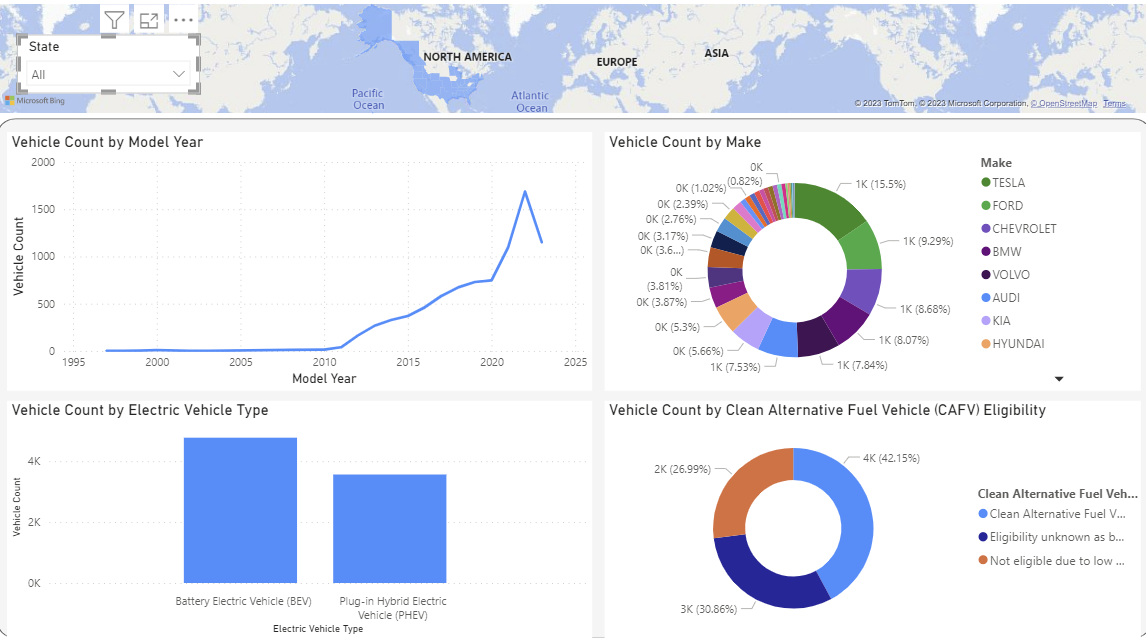

The page's visual inventory and layout, read from the dashboard file:
{"tool":"powerbi","page":{"name":"Page 1","canvas":[1280,720],"ordinal":0},"visuals":[{"type":"shape","box":[9.6,0,1270.7,140],"z":0},{"type":"filledMap","fields":{"Category":["Electric_Vehicle_Population_Data.State"]},"box":[9.6,0,1270.7,149.6],"z":1000},{"type":"shape","box":[9.6,149.6,1270.7,570.8],"z":2000},{"type":"columnChart","title":"Cars Registered by Electric Vehicle Type","fields":{"Category":["Electric_Vehicle_Population_Data.Electric Vehicle Type"],"Y":["Electric_Vehicle_Population_Data.Vehicle Count"]},"box":[22,459.7,642.2,260.7],"z":3000},{"type":"donutChart","title":"Cars Registered by Make","fields":{"Category":["Electric_Vehicle_Population_Data.Make"],"Y":["Electric_Vehicle_Population_Data.Vehicle Count"]},"box":[677.9,164.7,588.7,284],"z":4000},{"type":"lineChart","title":"Cars Registered by Model Year","fields":{"Category":["Electric_Vehicle_Population_Data.Model Year"],"Y":["Electric_Vehicle_Population_Data.Vehicle Count"]},"box":[22,164.7,642.2,284],"z":4001},{"type":"donutChart","title":"Cars Registered by Clean Alternative Fuel Vehicle (CAFV) Eligibility","fields":{"Category":["Electric_Vehicle_Population_Data.Clean Alternative Fuel Vehicle (CAFV) Eligibility"],"Y":["Electric_Vehicle_Population_Data.Vehicle Count"]},"box":[677.9,459.7,588.7,260.7],"z":4002},{"type":"slicer","fields":{"Values":["Electric_Vehicle_Population_Data.State"]},"box":[32.9,57.6,200.3,64.5],"z":4003}]}

Visuals, with their boxes in screenshot pixels (x1, y1, x2, y2), scaled from the page's 1280x720 canvas onto the 1146x638 screenshot:
shape: l=9, t=0, r=1145, b=124
filledMap - Electric_Vehicle_Population_Data.State: l=9, t=0, r=1145, b=133
shape: l=9, t=133, r=1145, b=637
"Cars Registered by Electric Vehicle Type" columnChart: l=20, t=407, r=595, b=637
"Cars Registered by Make" donutChart: l=607, t=146, r=1134, b=398
"Cars Registered by Model Year" lineChart: l=20, t=146, r=595, b=398
"Cars Registered by Clean Alternative Fuel Vehicle (CAFV) Eligibility" donutChart: l=607, t=407, r=1134, b=637
slicer - Electric_Vehicle_Population_Data.State: l=29, t=51, r=209, b=108
